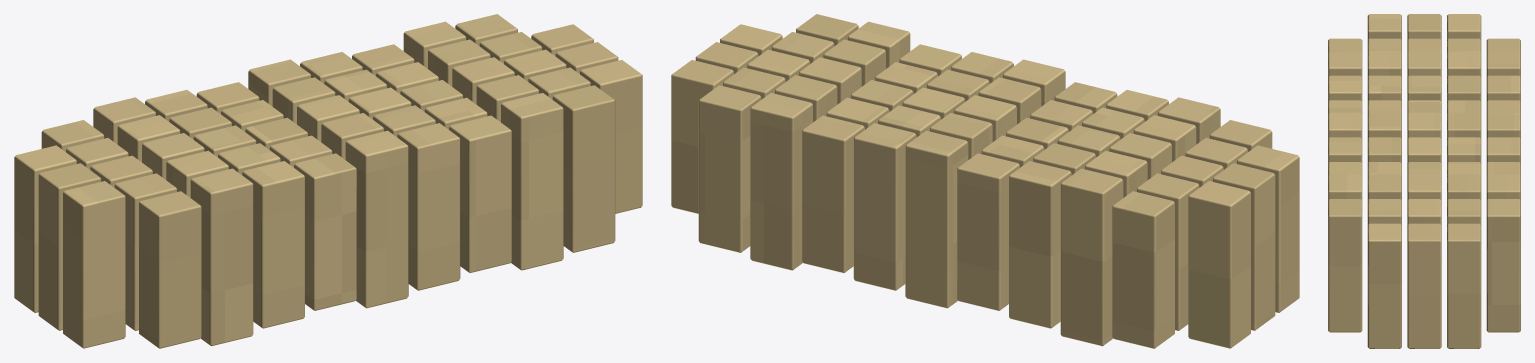
Rendered from Bristle-tufts.glb.
3 renders of one model, left to right at view 1: azimuth 30°, elevation 25°; view 2: azimuth 150°, elevation 25°; view 3: azimuth 270°, elevation 25°, orthographic. The views are drawn at different scales.
Visible parts, largest first — view 1: Bristle-tufts; view 2: Bristle-tufts; view 3: Bristle-tufts.
Part boxes in pixels (left/top/right/bottom): Bristle-tufts: left=14, top=14, right=642, bottom=348; Bristle-tufts: left=671, top=14, right=1299, bottom=348; Bristle-tufts: left=1328, top=14, right=1520, bottom=348.
Size of the model in its own units: 0.293 by 0.077 by 0.107.
1 material, 1 textured.
